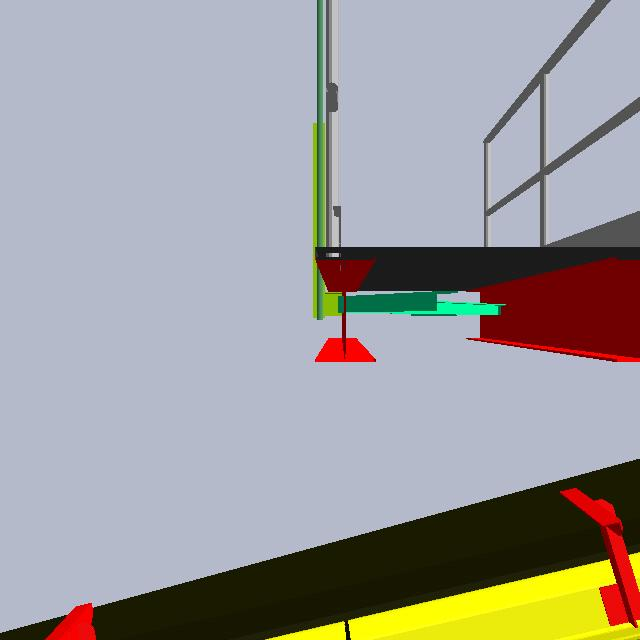Poste: (315, 1, 327, 325)
Soporte: (307, 115, 348, 323)
